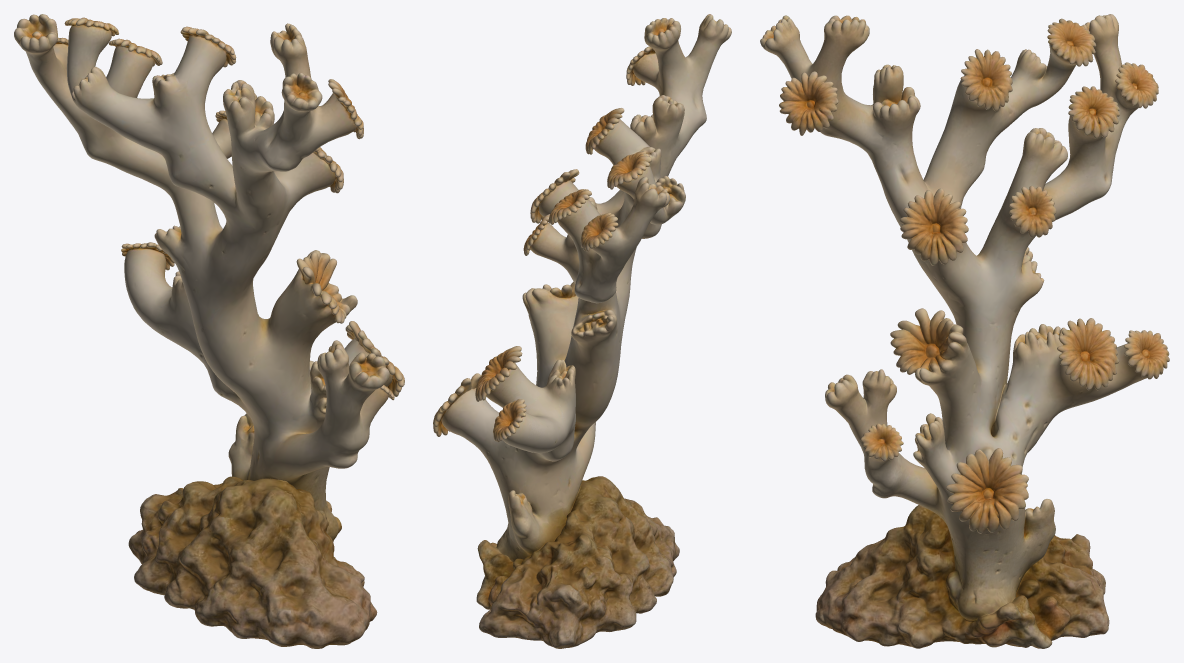
The picture shows the model from 3 angles, left to right: view 1: azimuth 30°, elevation 25°; view 2: azimuth 150°, elevation 25°; view 3: azimuth 270°, elevation 25°; orthographic projection. The views are drawn at different scales.
Size of the model in its own units: 0.5371 by 1 by 0.6318.
Materials: 1 (1 with a texture image).
